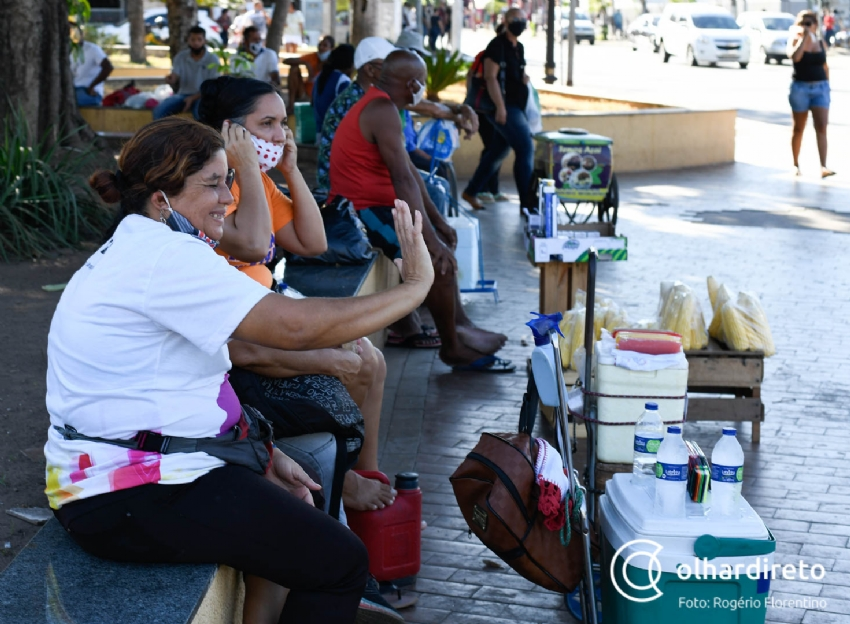mask_weared_incorrect: (142, 132, 237, 250), (218, 91, 293, 176)
